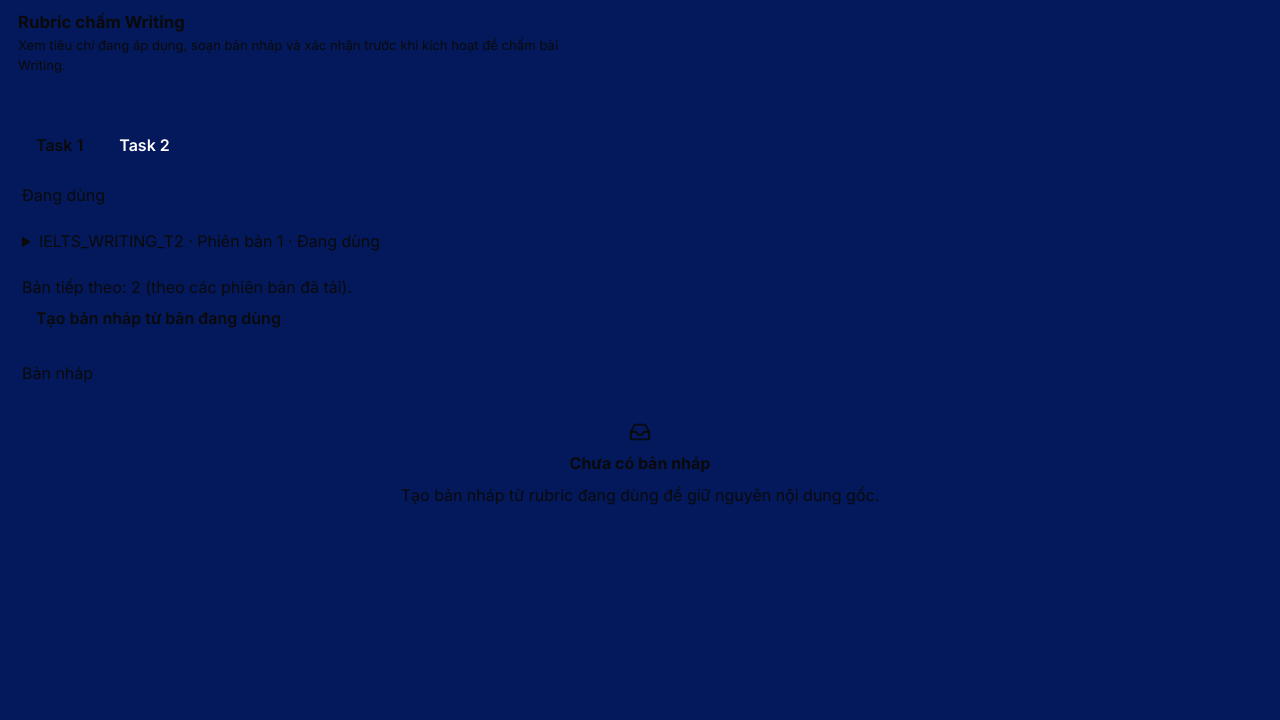
Scenario: RubricsPage › blocks duplicate bands inside a criterion
Click the button "Tạo bản nháp từ bản đang dùng" at (158, 318), box 22,299 -> 295,337
(page scrolled)
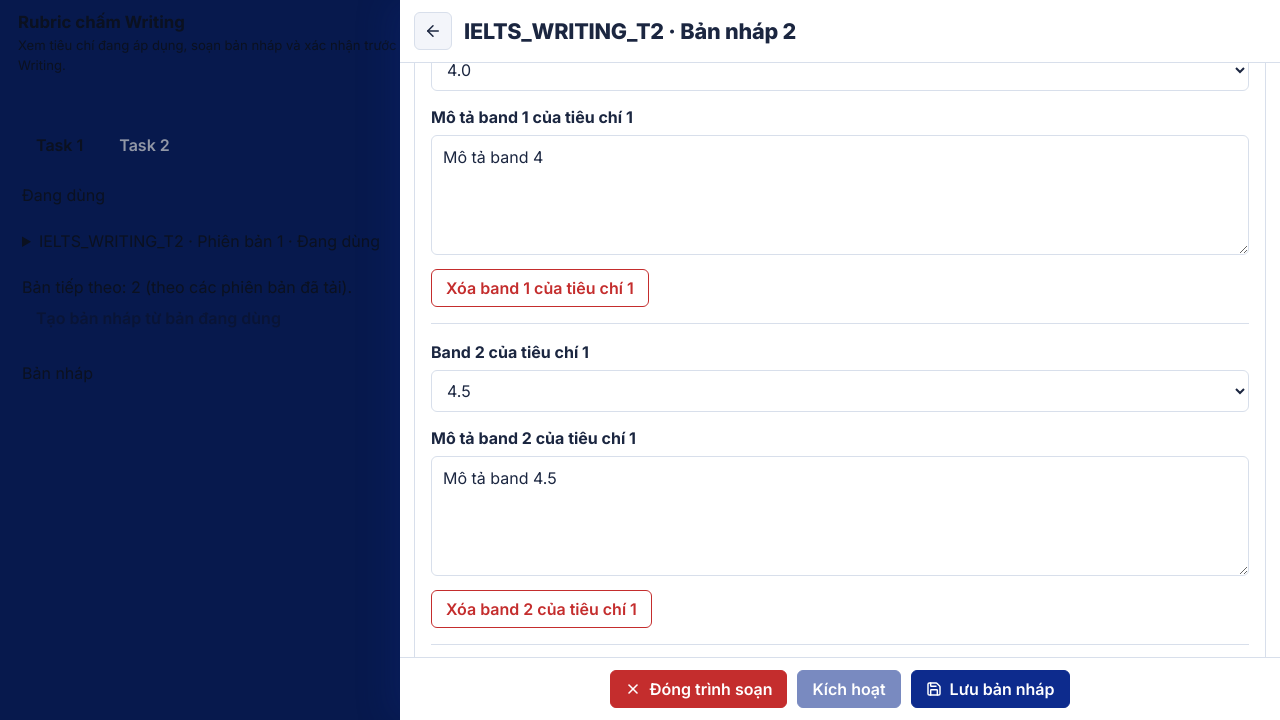
Select "4.0" in the dropdown labelled "Band 2 của tiêu chí 1" at (840, 391), box 431,370 -> 1249,412
(page scrolled)
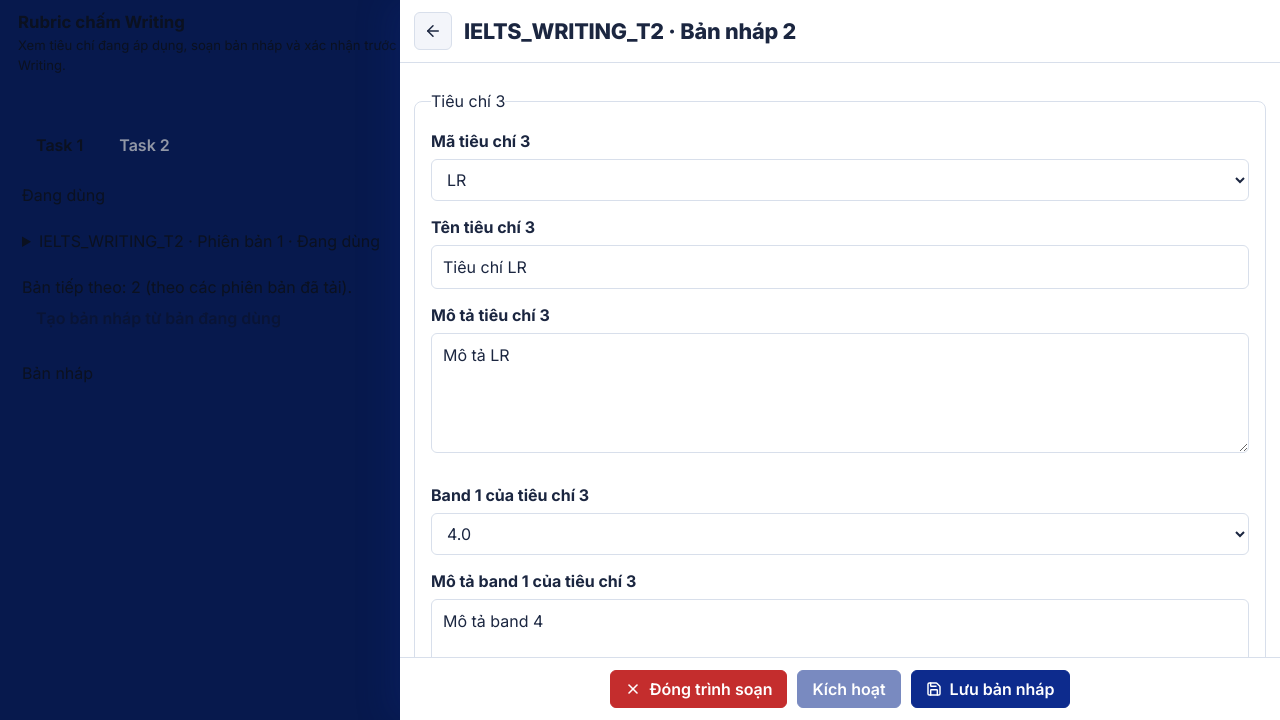
Submit the form named "Soạn rubric"
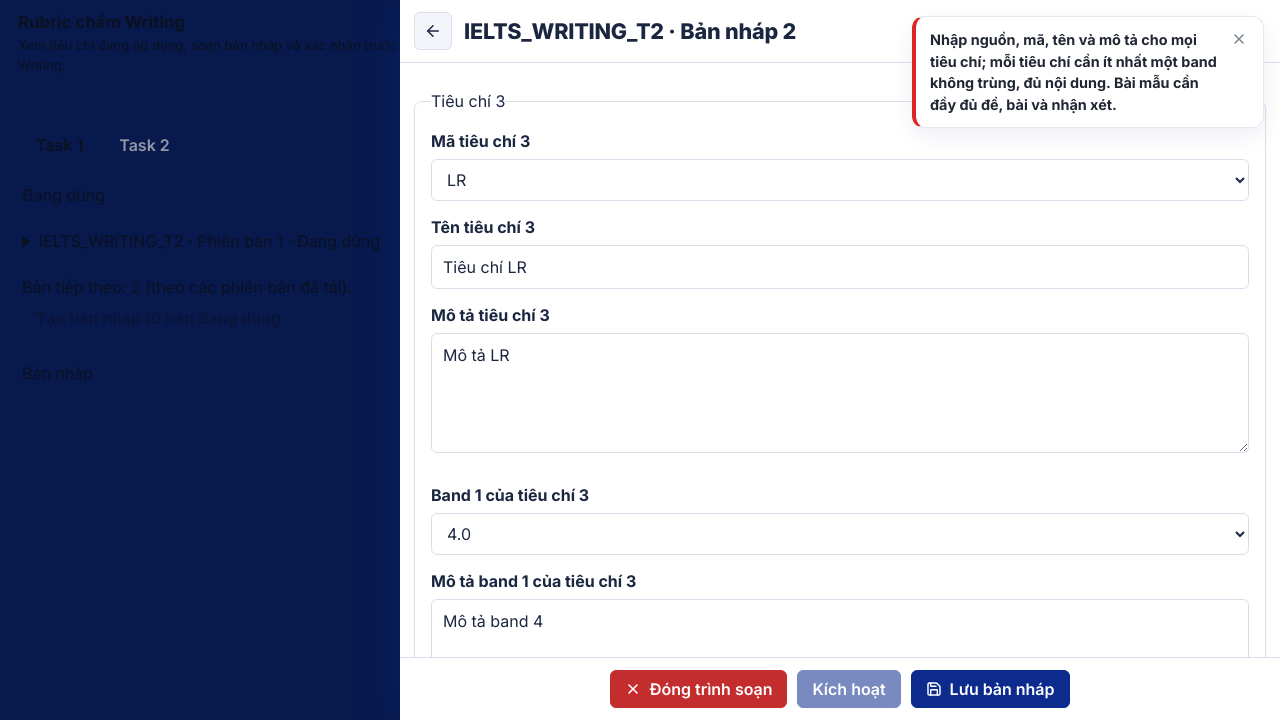
Check: the message is shown, box 912,16 -> 1264,128
